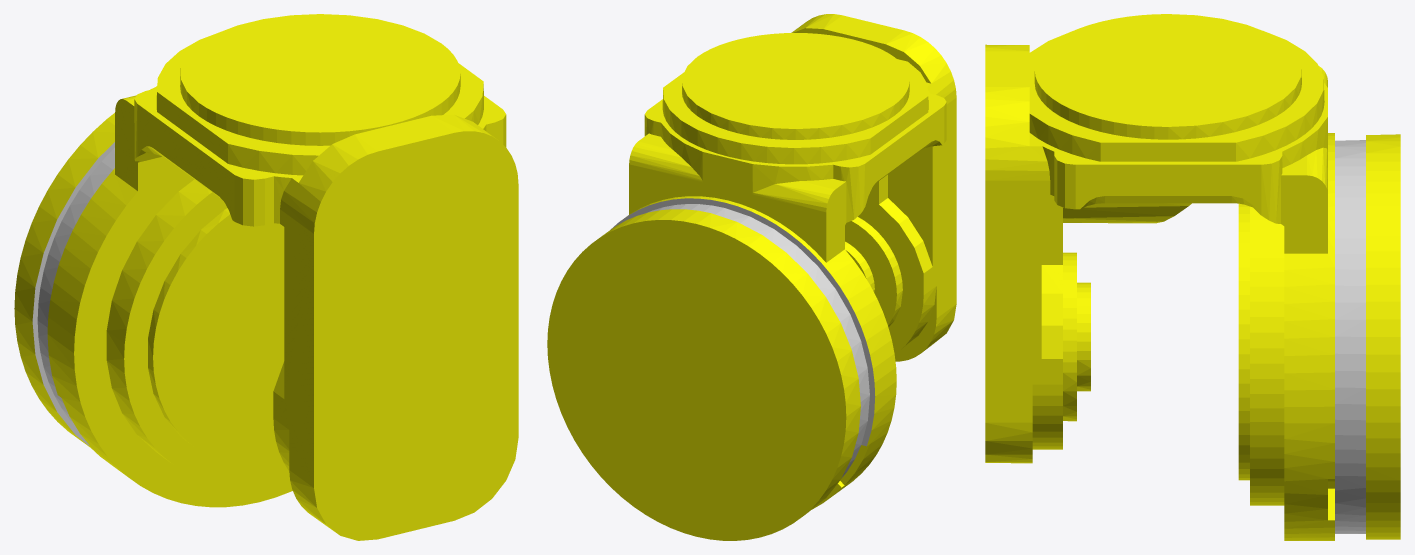
The picture shows the model from 3 angles, left to right: view 1: azimuth 30°, elevation 25°; view 2: azimuth 150°, elevation 25°; view 3: azimuth 270°, elevation 25°; orthographic projection. The views are drawn at different scales.
Visible parts, largest first — view 1: node; view 2: node; view 3: node.
Part boxes in pixels (box(x1,y1,x2,y2)): node: box(14, 14, 518, 540); node: box(547, 14, 956, 540); node: box(985, 14, 1400, 540).
Size of the model in its own units: 290 by 355 by 295.
